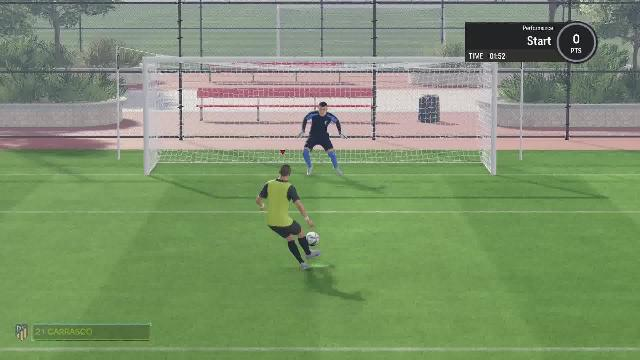circle: (311, 265, 329, 267)
football: (304, 231, 322, 246)
goal-bottom-left: (154, 125, 260, 173)
goal-bottom-right: (375, 125, 487, 175)
goal-middle-down: (262, 126, 372, 174)
goal-middle-up: (262, 66, 372, 122)
goal-top-left: (154, 66, 260, 122)
goal-top-right: (374, 68, 486, 122)
goalkeeper: (296, 98, 348, 178)
player: (254, 164, 316, 272)
